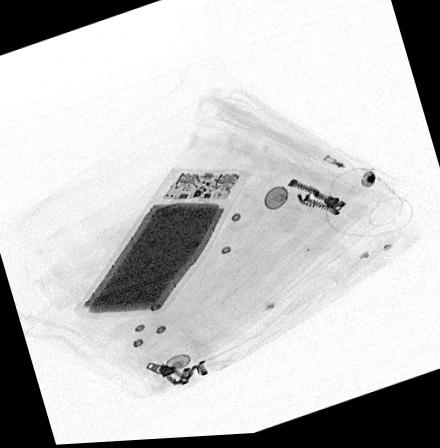Powerbank: (75, 171, 249, 318)
